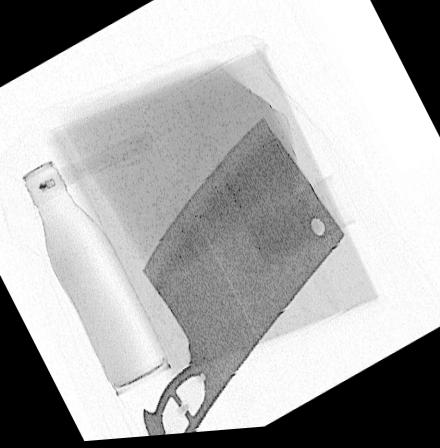Knife: (138, 117, 345, 439)
